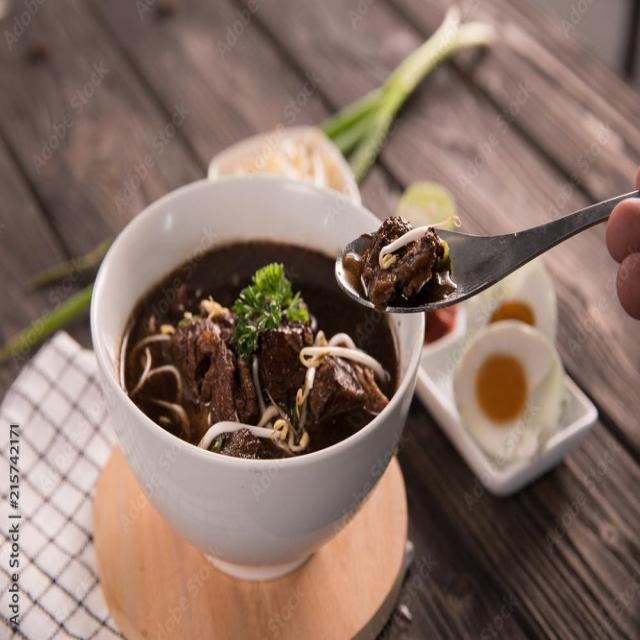Rawon: (125, 192, 414, 464)
